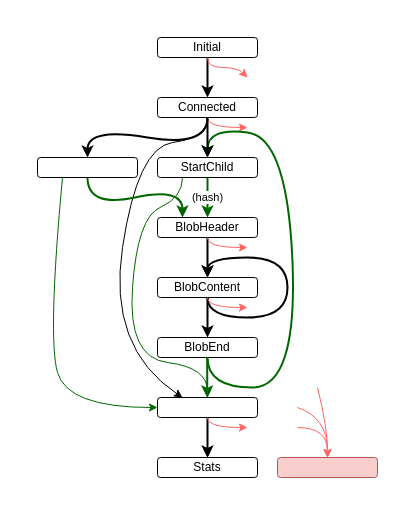
Image size: 414x514. Some labels were removed from this diagram. Each missing label, with the centre of its shape:
Closing: the point at 207,407
Error: the point at 327,467
StartCollection: the point at 87,167
